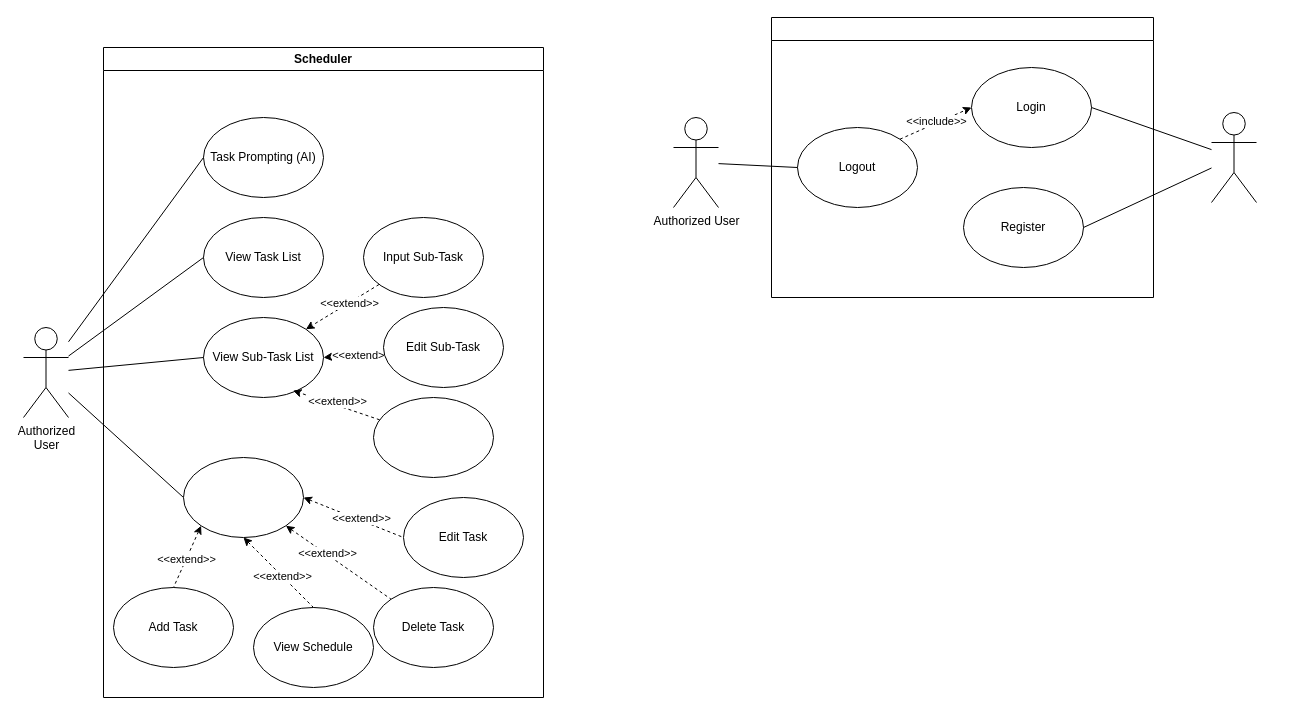
The diagram is 1312 pixels wide and 715 high, and some of its shapes have lost their labels. Here are the shapes that lost their labels. From the top down, the centre of each, then its label:
At point (962, 157): "Auth".
At point (1233, 157): "Anonim / Unauthorized".
At point (433, 437): "Delete Sub-Task".
At point (243, 497): "Task Management".
